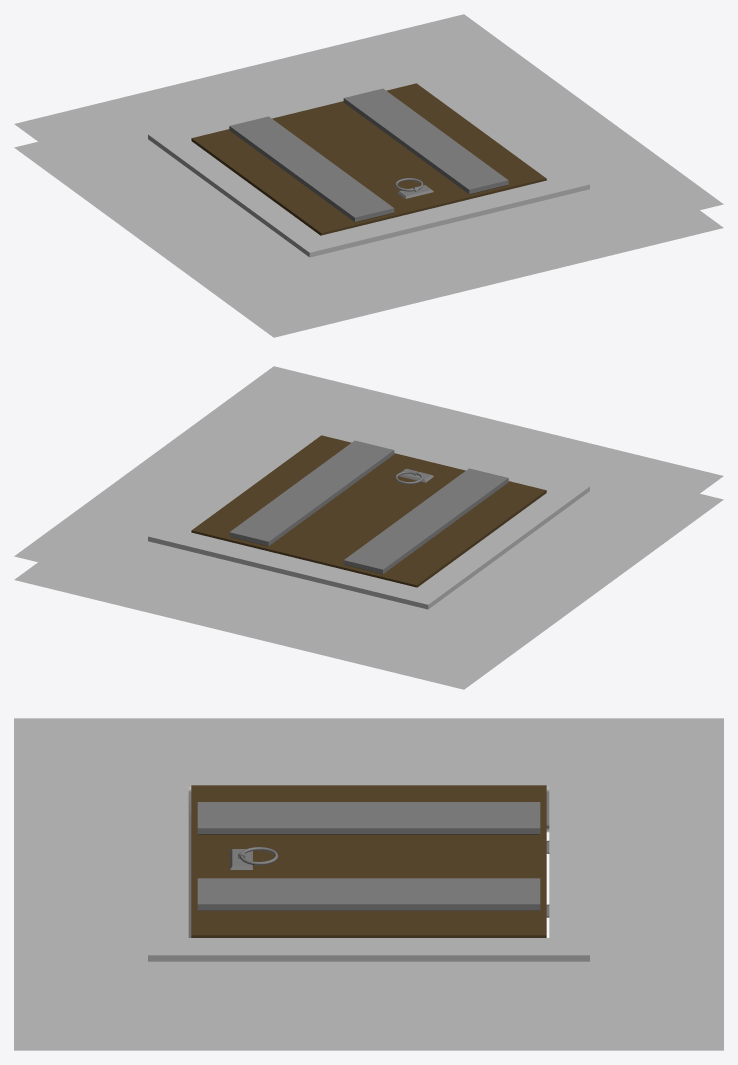
The model's file is SM_TrapDoor.fbx.
3 views of the same model, one above another, from view 1: azimuth 30°, elevation 25°; view 2: azimuth 150°, elevation 25°; view 3: azimuth 270°, elevation 25° (orthographic). The views are drawn at different scales.
Visible parts, largest first — view 1: Frame, Trapdoor; view 2: Frame, Trapdoor; view 3: Frame, Trapdoor.
Boxes of the visible parts, left/top/right/bottom form: Frame: left=14, top=14, right=723, bottom=337; Trapdoor: left=191, top=83, right=546, bottom=235; Frame: left=14, top=366, right=723, bottom=689; Trapdoor: left=191, top=435, right=546, bottom=587; Frame: left=14, top=718, right=723, bottom=1050; Trapdoor: left=191, top=785, right=549, bottom=937.
Size of what is drawn, in the model's own units: 400 by 38.9 by 400.
